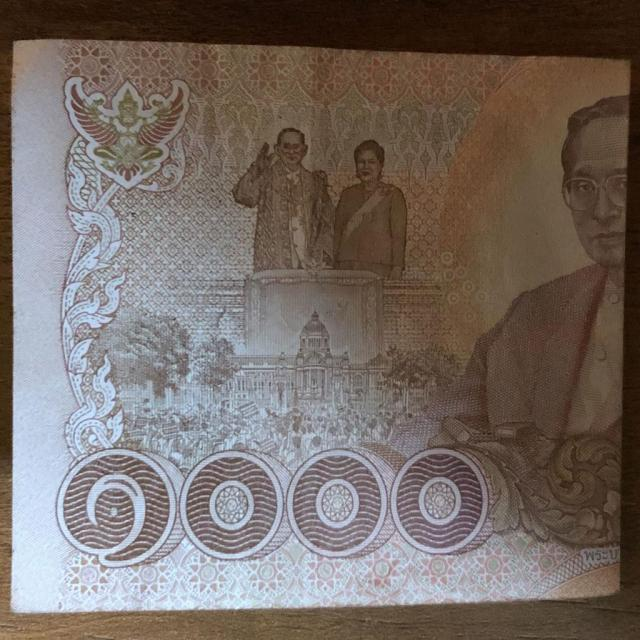THAI1000: (10, 39, 631, 616)
